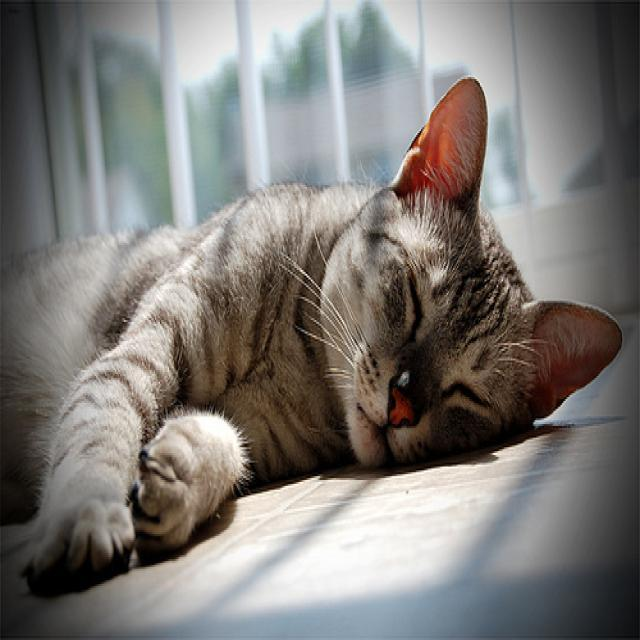Egyptian_Mau: (319, 75, 621, 465)
